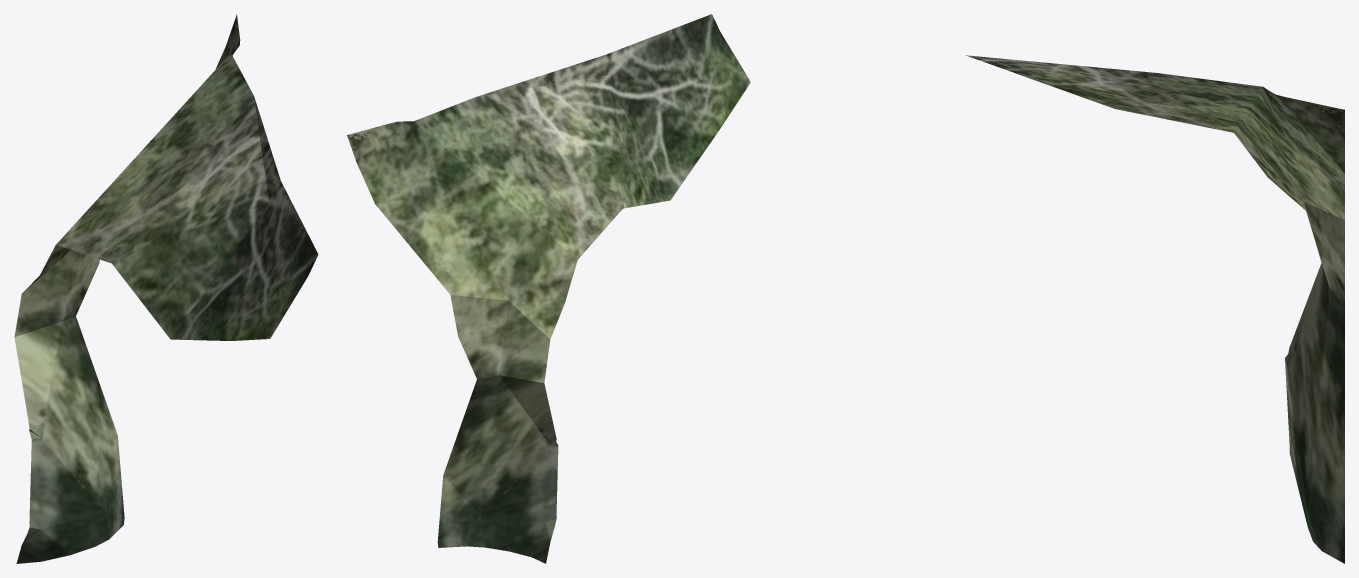
3 views of the same model, side by side, from view 1: azimuth 30°, elevation 25°; view 2: azimuth 150°, elevation 25°; view 3: azimuth 270°, elevation 25° (orthographic). The views are drawn at different scales.
Size of the model in its own units: 2.98 by 5.9 by 5.9.
Materials: 2 (2 with a texture image).
